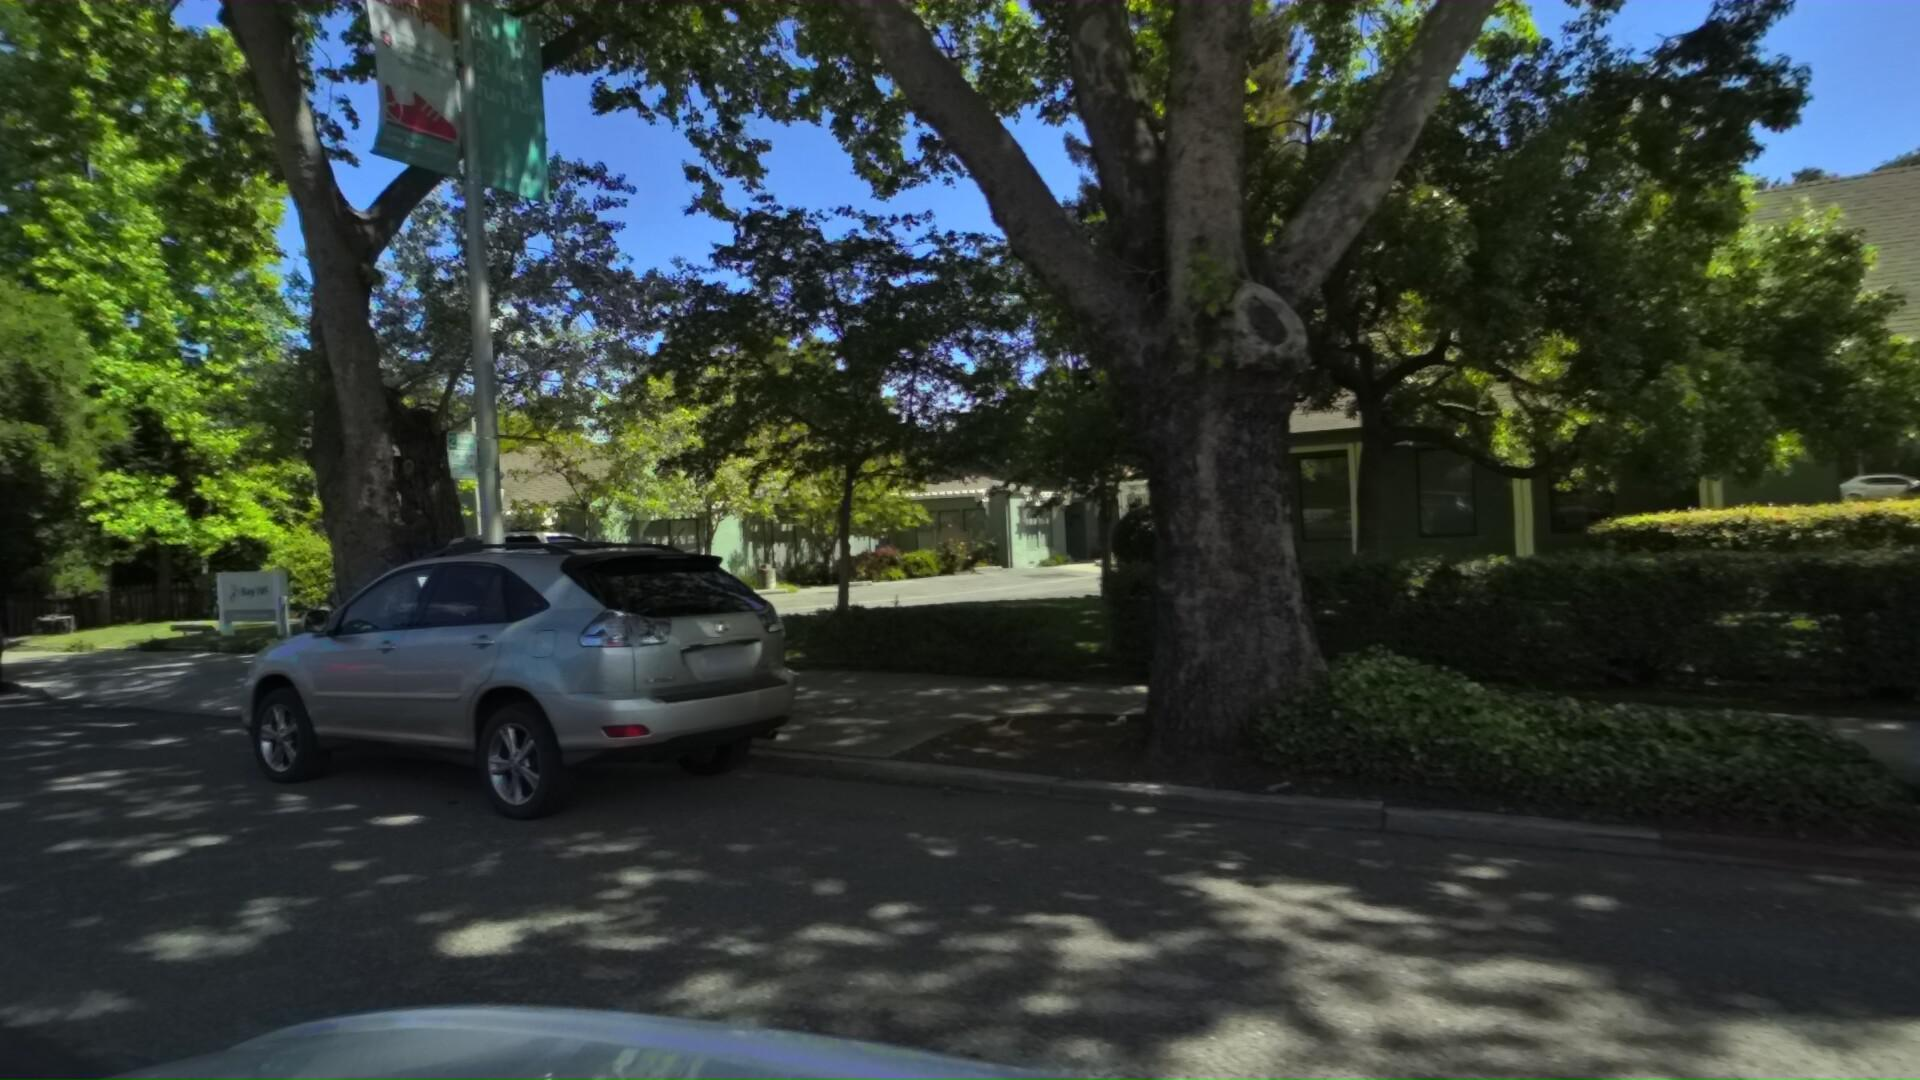car: (196, 516, 891, 872), (334, 509, 719, 670), (0, 556, 29, 717)
